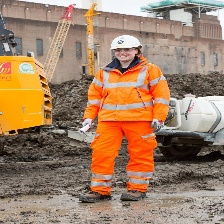helmet: (104, 35, 148, 51)
person: (90, 34, 174, 206)
vest: (87, 62, 169, 138)
